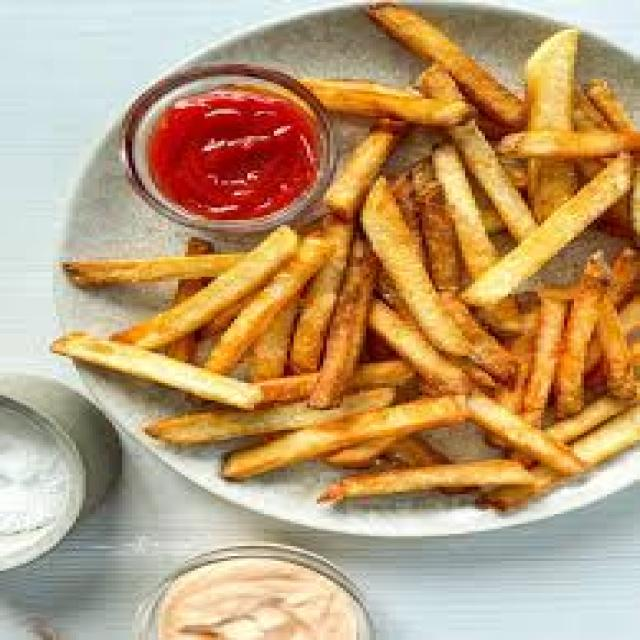Fries: (147, 36, 640, 477)
